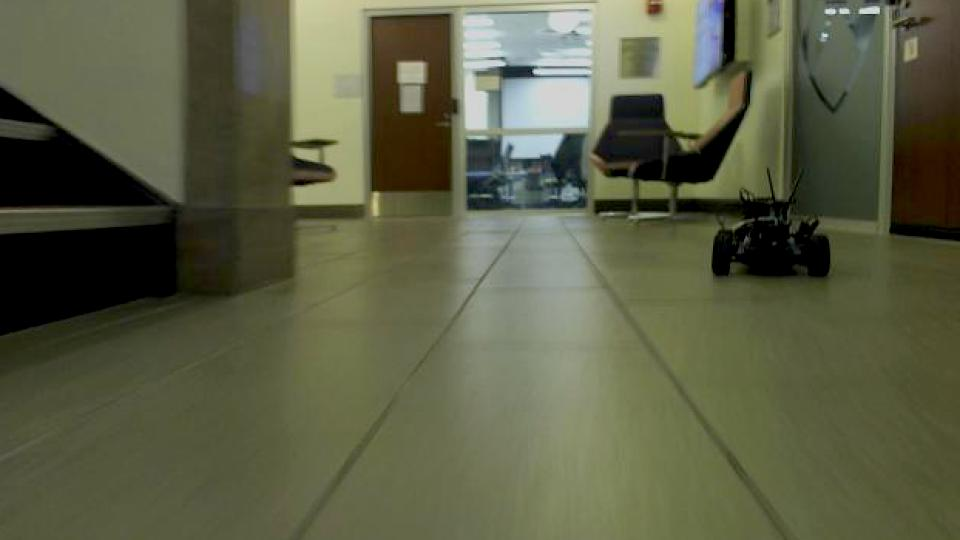car: (707, 165, 833, 281)
